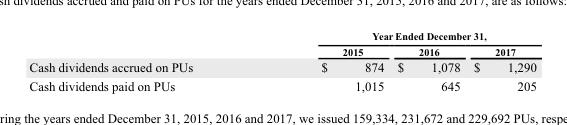table: (28, 28, 535, 94)
table column: (28, 28, 256, 94), (256, 28, 390, 94), (390, 28, 466, 94), (466, 28, 535, 94)
table column header: (28, 28, 535, 57)
table row: (28, 57, 535, 76), (28, 76, 535, 94), (28, 28, 535, 43), (28, 43, 535, 57)
table spanning cell: (256, 28, 535, 43)
